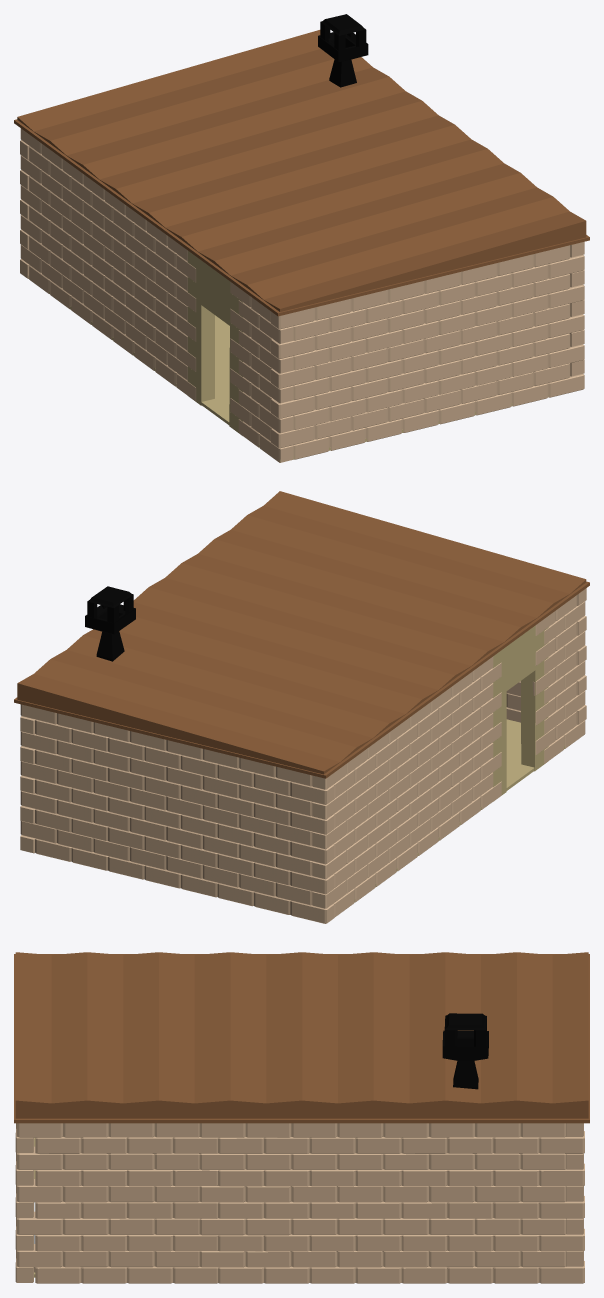
File: House.fbx
The picture shows the model from 3 angles, top to bottom: view 1: azimuth 30°, elevation 25°; view 2: azimuth 150°, elevation 25°; view 3: azimuth 270°, elevation 25°; orthographic projection. The views are drawn at different scales.
Visible parts, largest first — view 1: Roof, Walls, Door part, Fire Cooker, Floor; view 2: Roof, Walls, Door part, Fire Cooker, Floor; view 3: Roof, Walls, Fire Cooker.
Part boxes in pixels (x1=…): Roof: x1=14, y1=30, x2=589, y2=316; Walls: x1=20, y1=128, x2=584, y2=462; Door part: x1=187, y1=251, x2=243, y2=435; Fire Cooker: x1=318, y1=14, x2=368, y2=87; Floor: x1=28, y1=276, x2=548, y2=462; Roof: x1=14, y1=491, x2=589, y2=778; Walls: x1=20, y1=588, x2=586, y2=923; Door part: x1=493, y1=625, x2=548, y2=801; Fire Cooker: x1=85, y1=586, x2=135, y2=661; Floor: x1=354, y1=719, x2=564, y2=901; Roof: x1=14, y1=952, x2=589, y2=1123; Walls: x1=15, y1=1123, x2=584, y2=1283; Fire Cooker: x1=442, y1=1013, x2=488, y2=1089.
Bounding box in the file's own units: 2640 × 1819 × 3870.
